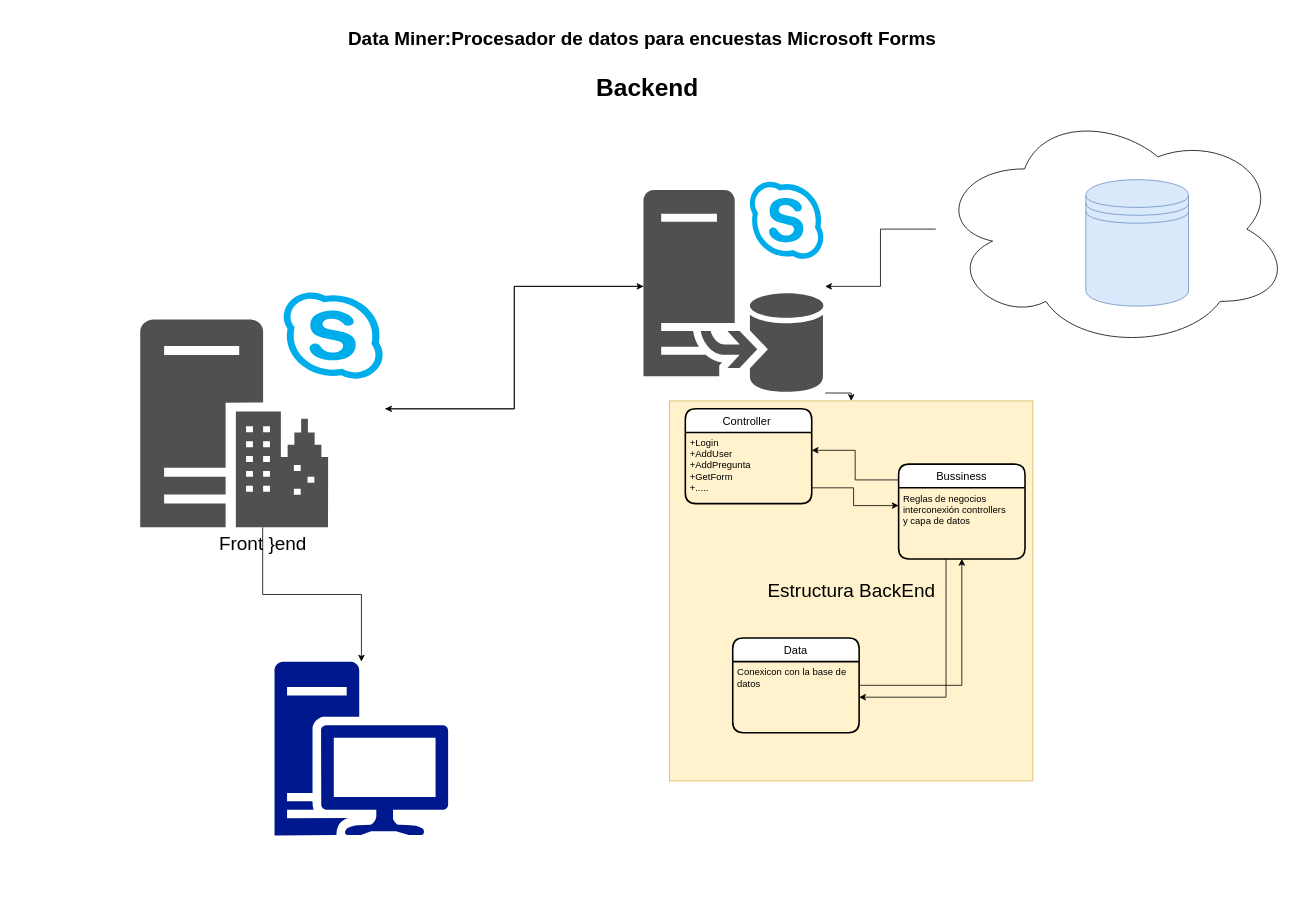
Some shapes in this 1305 by 901 pixel diagram are drawn without their labels. Here are the shapes that lost their labels. From the top down, the centre of each, then its label:
At [1137,242]: "Base de datos".
At [361,748]: "cliente".
